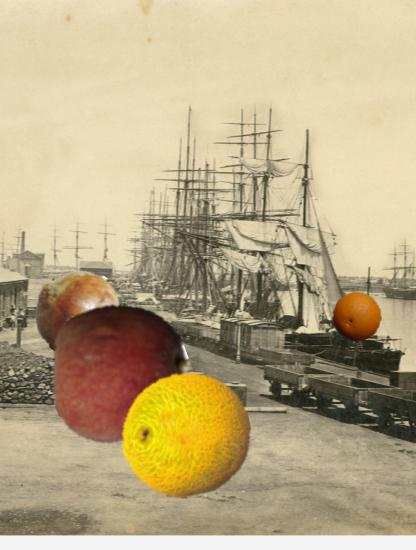Cantaloupe: (121, 370, 252, 501)
Cherry: (136, 394, 221, 479)
Onion: (31, 266, 121, 356)
Orange: (331, 291, 382, 342)
Peach: (47, 301, 189, 443)
